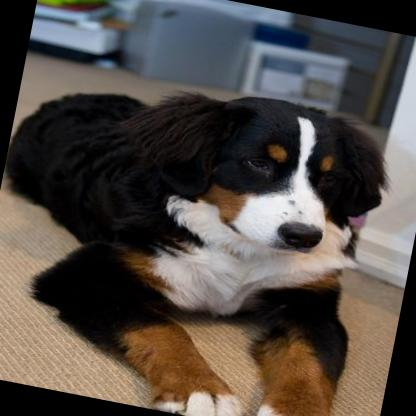Bernese_mountain_dog: (0, 50, 399, 416)
